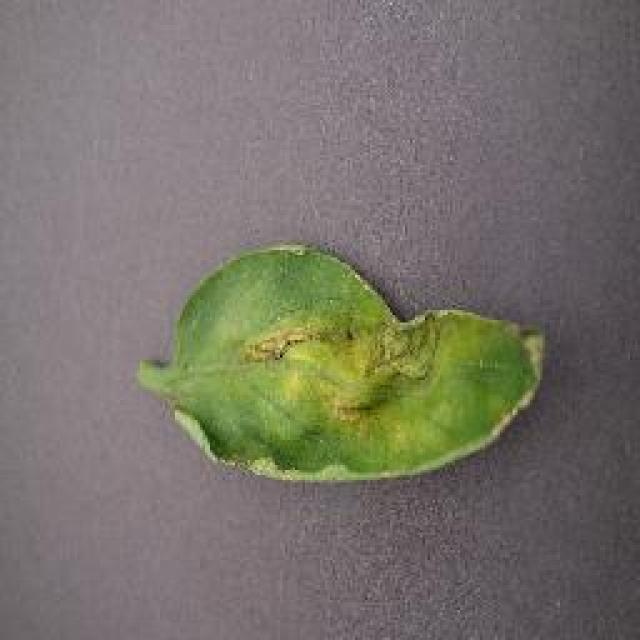Tomato late blight leaf: (172, 242, 548, 492)
